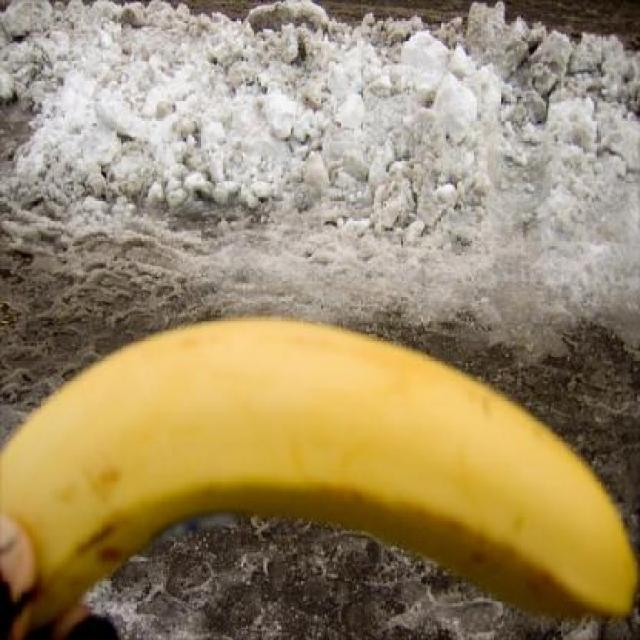Banana: (0, 303, 632, 630)
